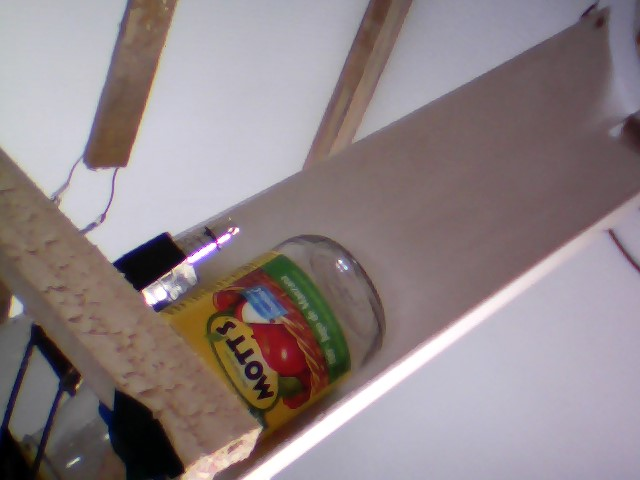vidrio: (171, 225, 391, 429)
